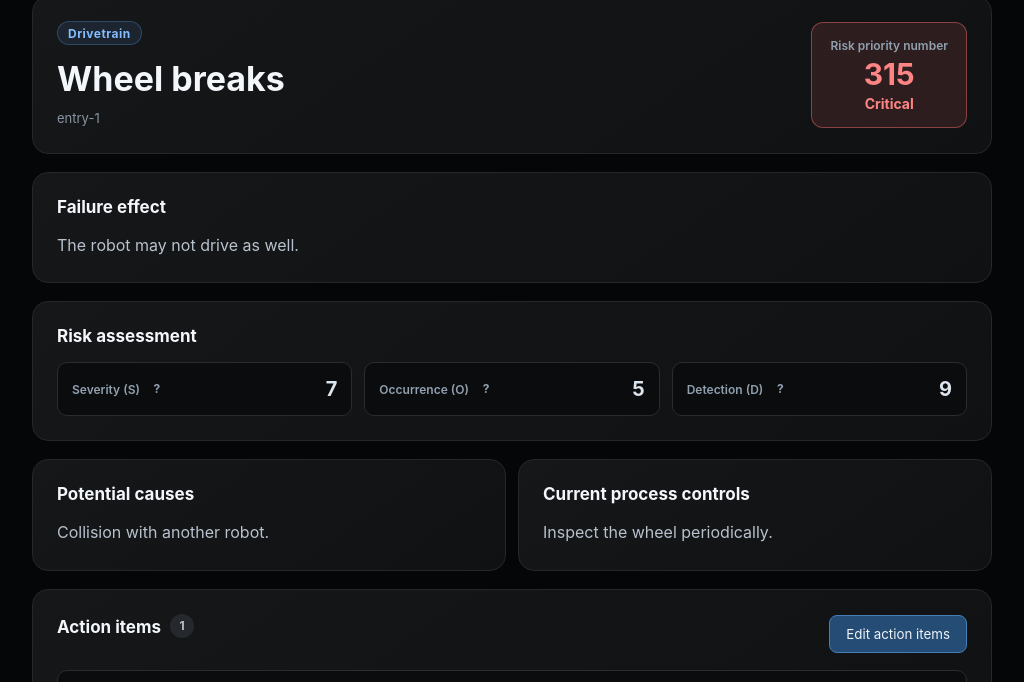
it: FmeaEntryDetailComponent › stages deletion and discards it when editing is cancelled
Click the button with class "action-item-toggle". click: (898, 634)
box: [829,615,967,653]
(page scrolled)
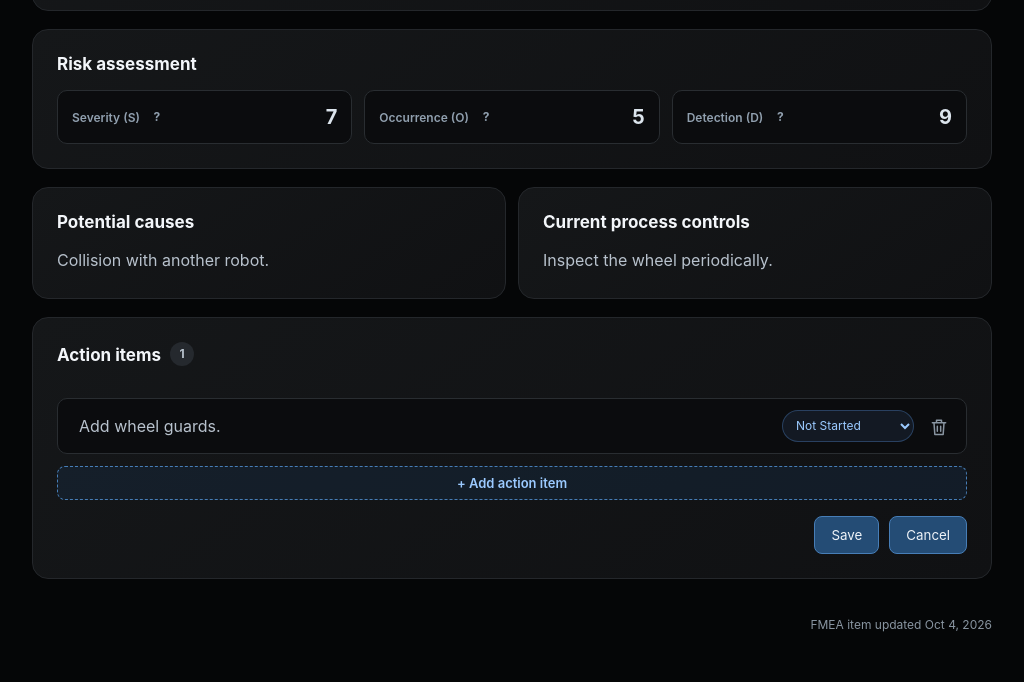
Click the button with class "action-item-delete". click: (938, 426)
box: [922,410,954,442]
(page scrolled)
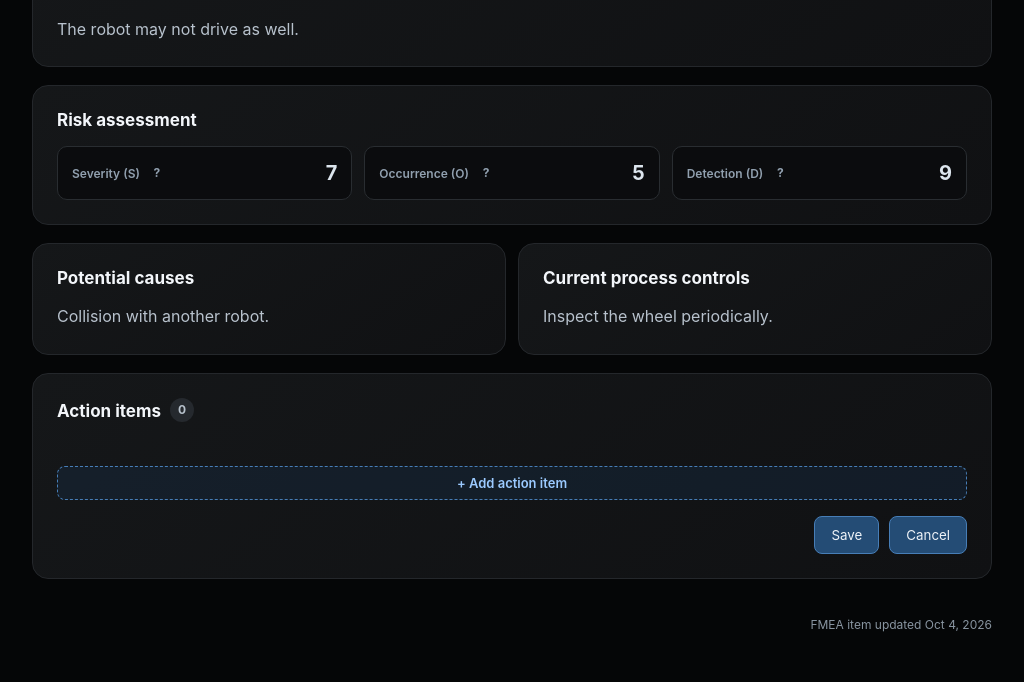
Click the button "Cancel". click: (928, 535)
box: [889,516,967,554]
(page scrolled)
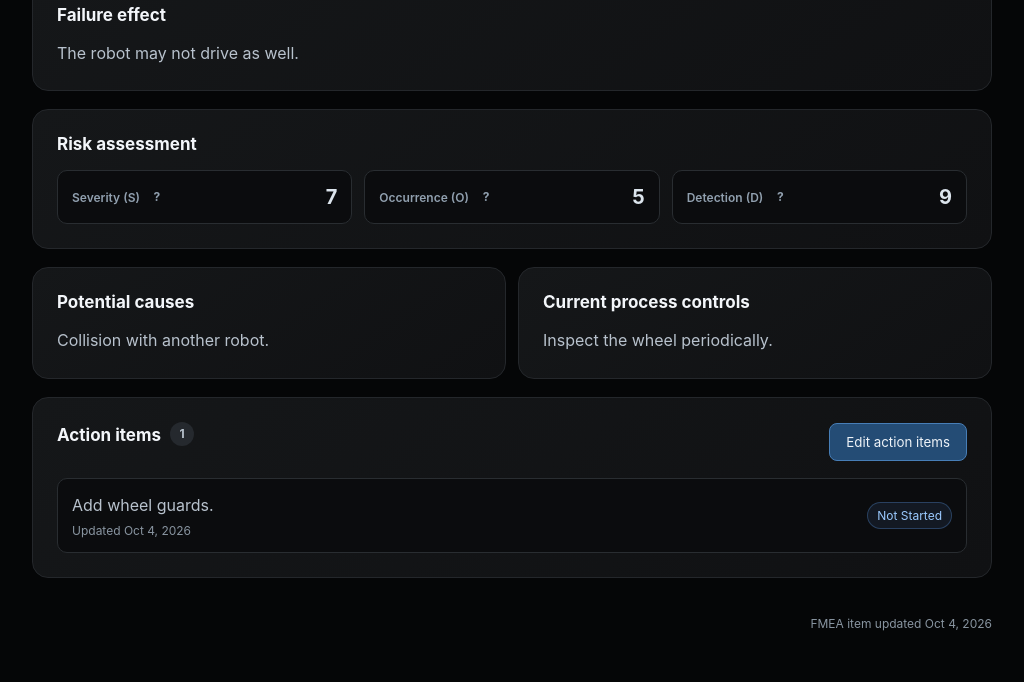
expect the text "Add wheel guards." is shown: met, box [72,495,214,515]
